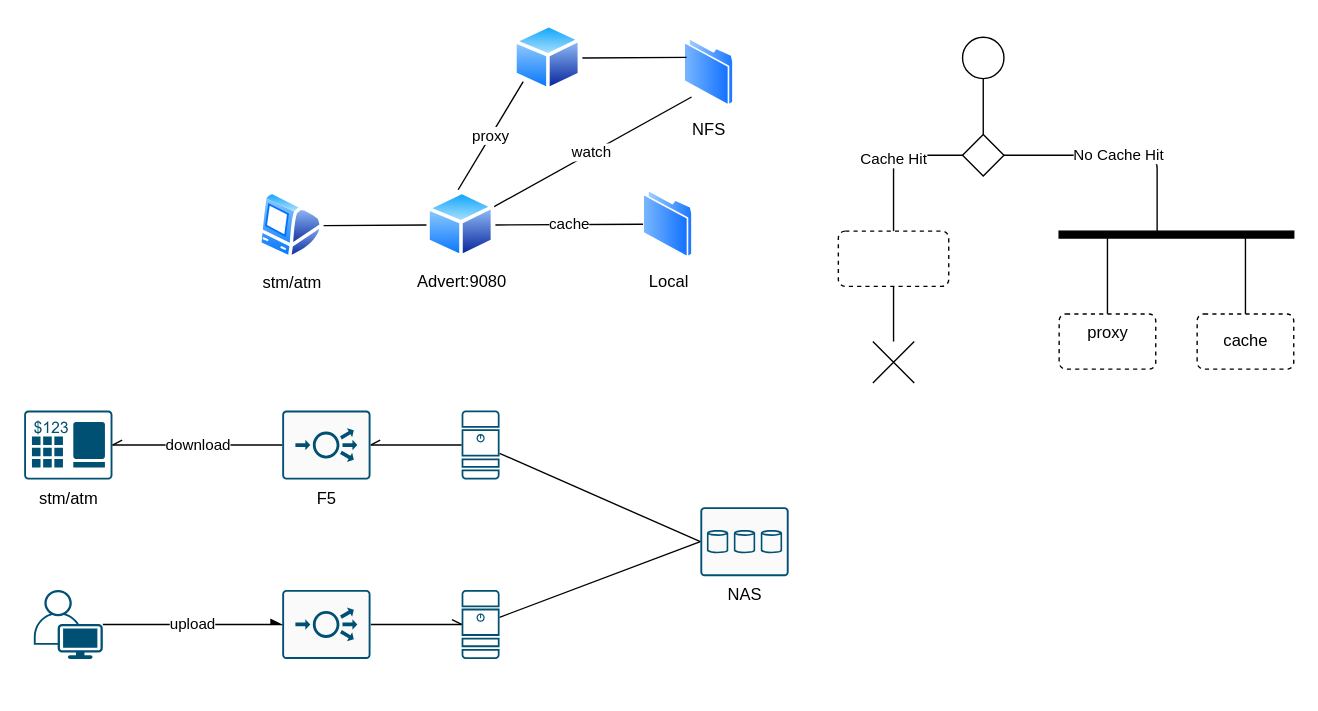
This 1318x711 diagram has some shape labels left out. The shapes that lost their labels are listed below. From the top down, each one's box as (x1, y1, x2, y2) in pixels, then its label:
(513, 23, 582, 91): IHS:80
(837, 230, 949, 286): response
(461, 410, 499, 479): IHS
(461, 589, 499, 658): was
